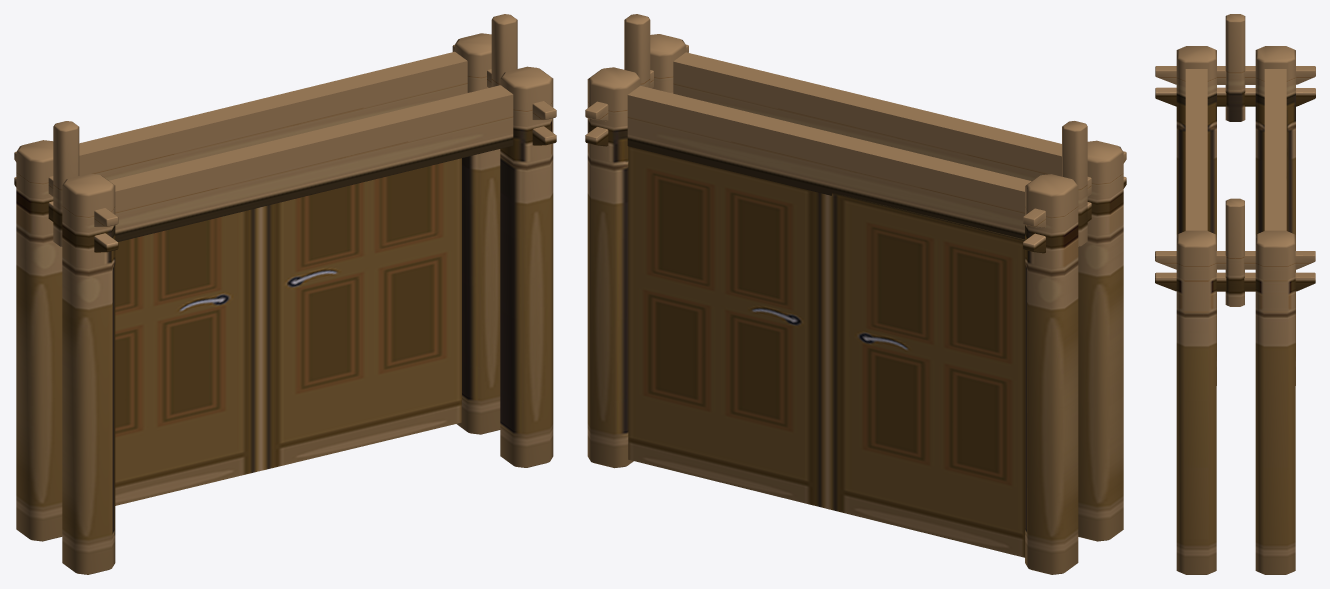
The model's file is GATE 4.fbx.
3 views of the same model, side by side, from view 1: azimuth 30°, elevation 25°; view 2: azimuth 150°, elevation 25°; view 3: azimuth 270°, elevation 25° (orthographic). The views are drawn at different scales.
Parts seen in each view (by area): view 1: pasted__polySurface6912_aiGate_M1_0, polySurface7370_aiGate_M1_0, polySurface7476_aiGate_M1_0; view 2: pasted__polySurface6912_aiGate_M1_0, polySurface7476_aiGate_M1_0, polySurface7370_aiGate_M1_0; view 3: pasted__polySurface6912_aiGate_M1_0, polySurface7476_aiGate_M1_0.
Boxes of the visible parts, box(x1,y1,x2,y2) form: pasted__polySurface6912_aiGate_M1_0: box(14, 14, 556, 574); polySurface7370_aiGate_M1_0: box(261, 158, 461, 470); polySurface7476_aiGate_M1_0: box(115, 207, 261, 505); pasted__polySurface6912_aiGate_M1_0: box(585, 14, 1126, 574); polySurface7476_aiGate_M1_0: box(826, 192, 1025, 557); polySurface7370_aiGate_M1_0: box(628, 146, 826, 508); pasted__polySurface6912_aiGate_M1_0: box(1155, 14, 1315, 574); polySurface7476_aiGate_M1_0: box(1286, 110, 1287, 231).
Bounding box in the file's own units: 398 × 337 × 134.
Materials: 1 (1 with a texture image).
